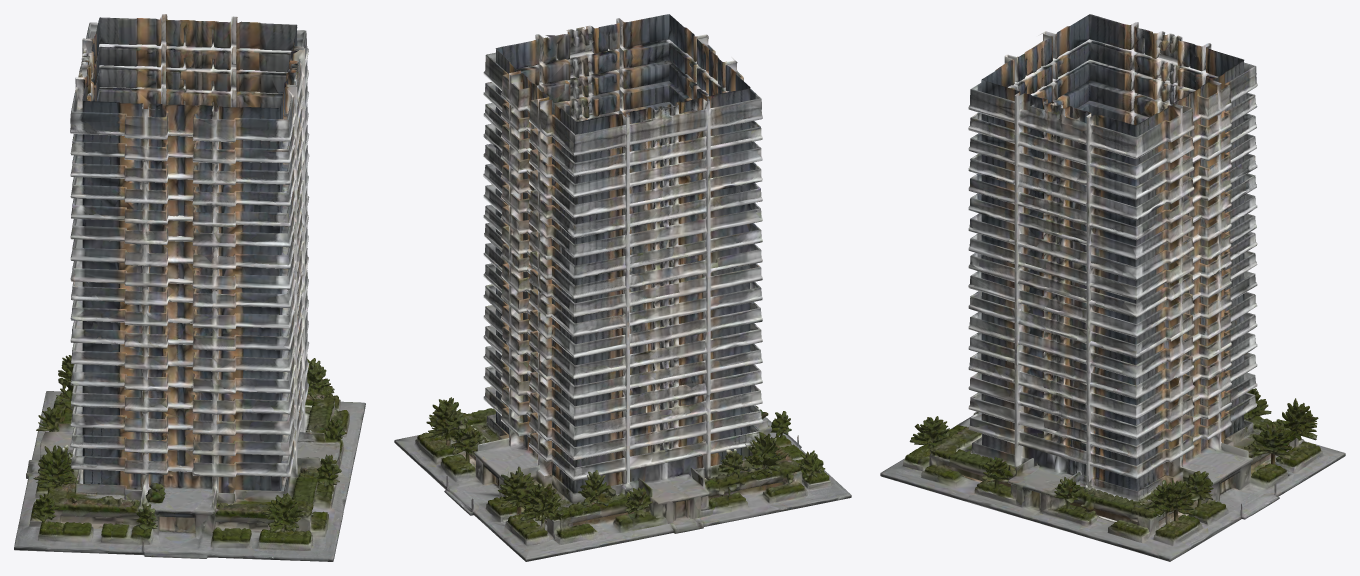
Rendered from building-stage-2.glb.
3 views of the same model, side by side, from view 1: azimuth 30°, elevation 25°; view 2: azimuth 150°, elevation 25°; view 3: azimuth 270°, elevation 25° (orthographic). The views are drawn at different scales.
Visible parts, largest first — view 1: stage_2_middle_third, stage_1_lower_third, stage_0_ground; view 2: stage_2_middle_third, stage_1_lower_third, stage_0_ground; view 3: stage_2_middle_third, stage_1_lower_third, stage_0_ground.
Part boxes in pixels (x1=…): stage_2_middle_third: x1=70, y1=14, x2=309, y2=311; stage_1_lower_third: x1=32, y1=227, x2=346, y2=540; stage_0_ground: x1=14, y1=391, x2=365, y2=561; stage_2_middle_third: x1=483, y1=14, x2=762, y2=317; stage_1_lower_third: x1=418, y1=243, x2=828, y2=535; stage_0_ground: x1=394, y1=417, x2=851, y2=561; stage_2_middle_third: x1=968, y1=14, x2=1257, y2=317; stage_1_lower_third: x1=906, y1=251, x2=1319, y2=535; stage_0_ground: x1=880, y1=415, x2=1345, y2=561.
Bounding box in the file's own units: 1.33 × 1.29 × 1.37.
Materials: 1 (1 with a texture image).
